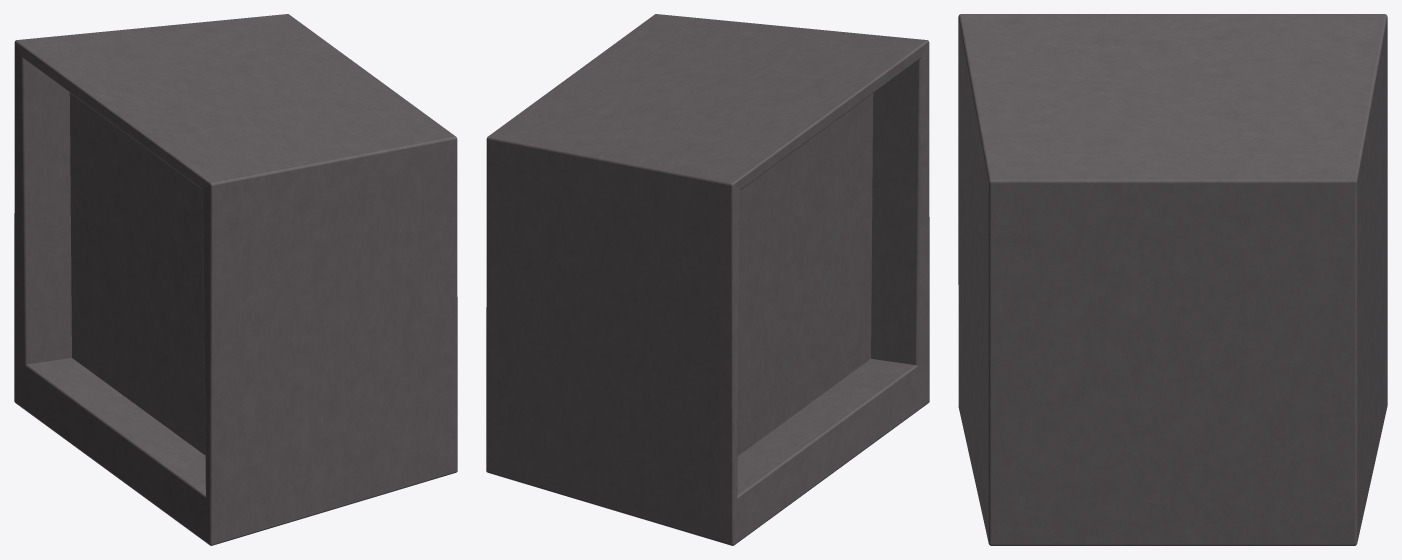
Rendered from CCTV.fbx.
3 views of the same model, side by side, from view 1: azimuth 30°, elevation 25°; view 2: azimuth 150°, elevation 25°; view 3: azimuth 270°, elevation 25° (orthographic). The views are drawn at different scales.
Visible parts, largest first — view 1: Frame; view 2: Frame; view 3: Frame.
Boxes of the visible parts, <box> form: Frame: <box>14,14,457,545</box>; Frame: <box>486,14,929,545</box>; Frame: <box>958,14,1387,545</box>.
Size of the model in its own units: 179 by 239 by 233.
